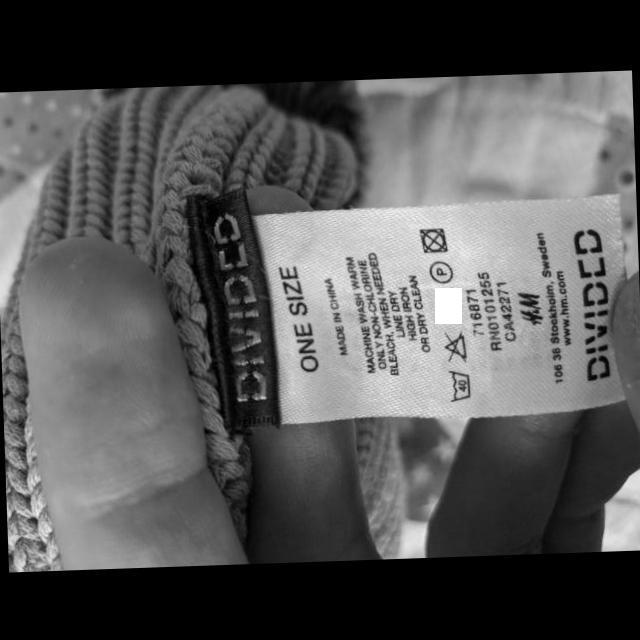40C: (447, 365, 472, 403)
DN_bleach: (441, 328, 469, 362)
DN_tumble_dry: (418, 224, 448, 254)
normal_dry_clean_solvents: (426, 258, 454, 284)
